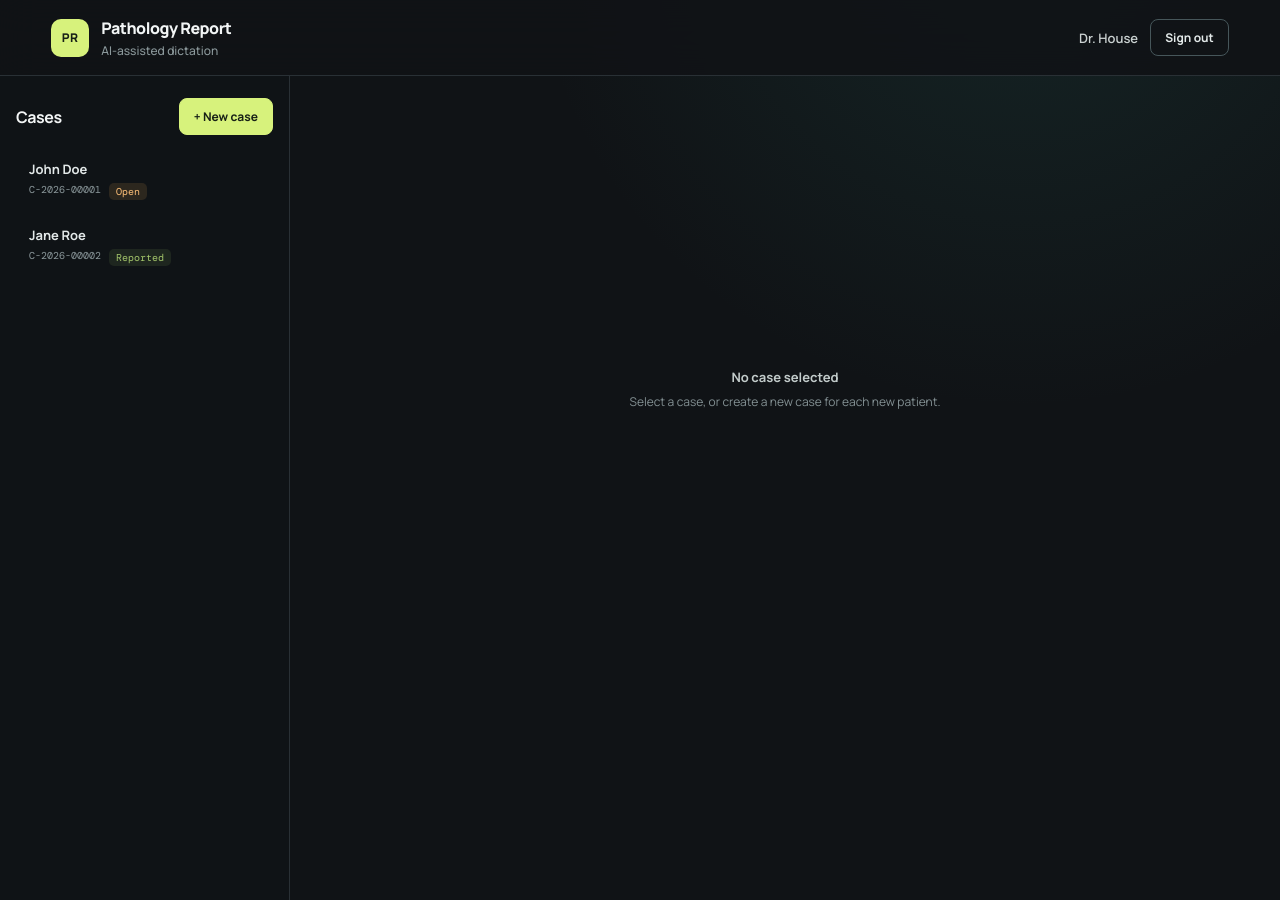
cases › dictates in an open case, authenticating the socket for that case
The width and height of the screenshot is (1280, 900).
Expected: the text "Dr. House" is shown, [1079,28,1138,46]
Click the button "John Doe C-2026-00001 Open". click: coordinates (144, 180)
box: [16,149,273,211]
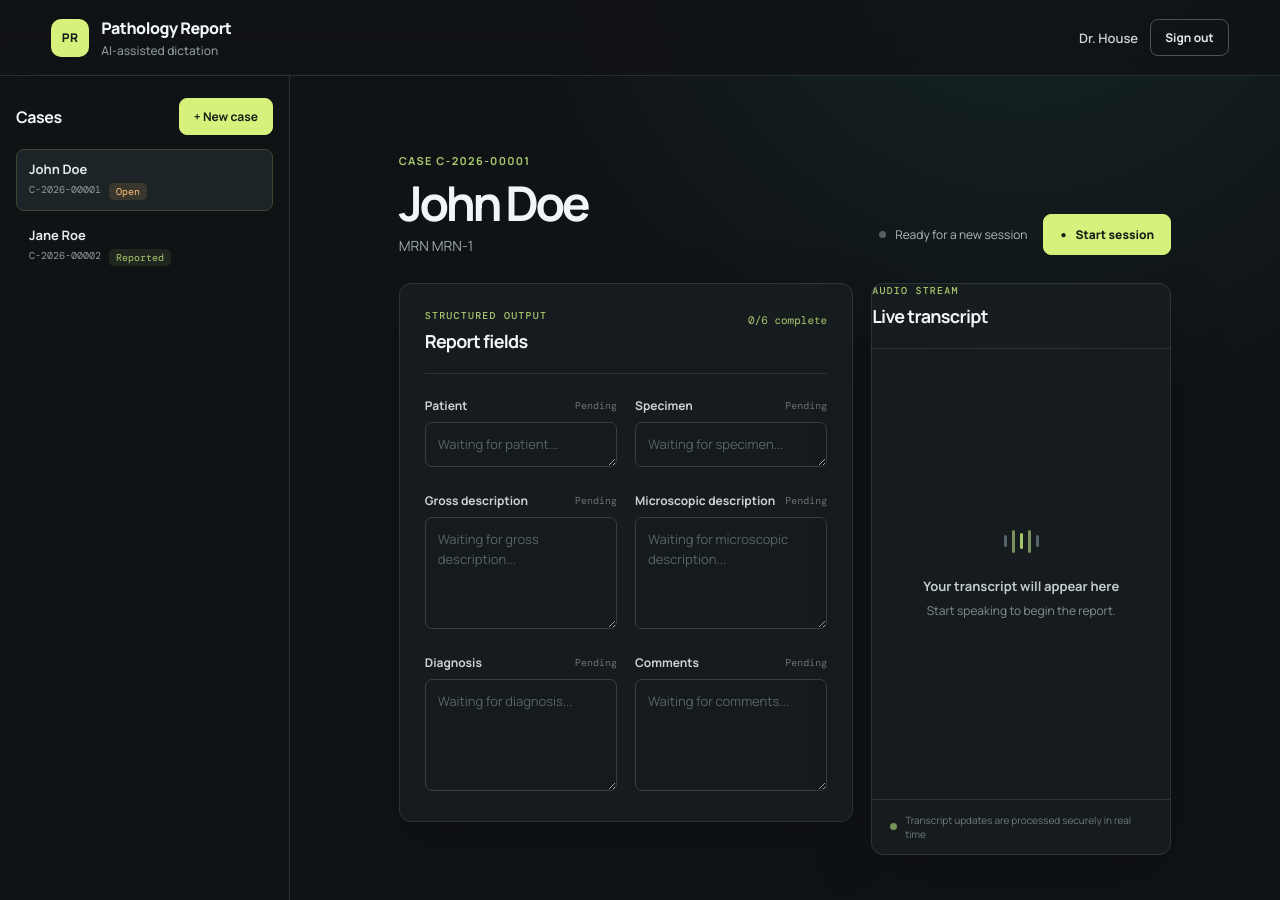
Result: the heading "John Doe" is shown at [399,179,587,226]
Click the button "● Start session". click: coordinates (1107, 234)
box: [1043,214,1171,255]
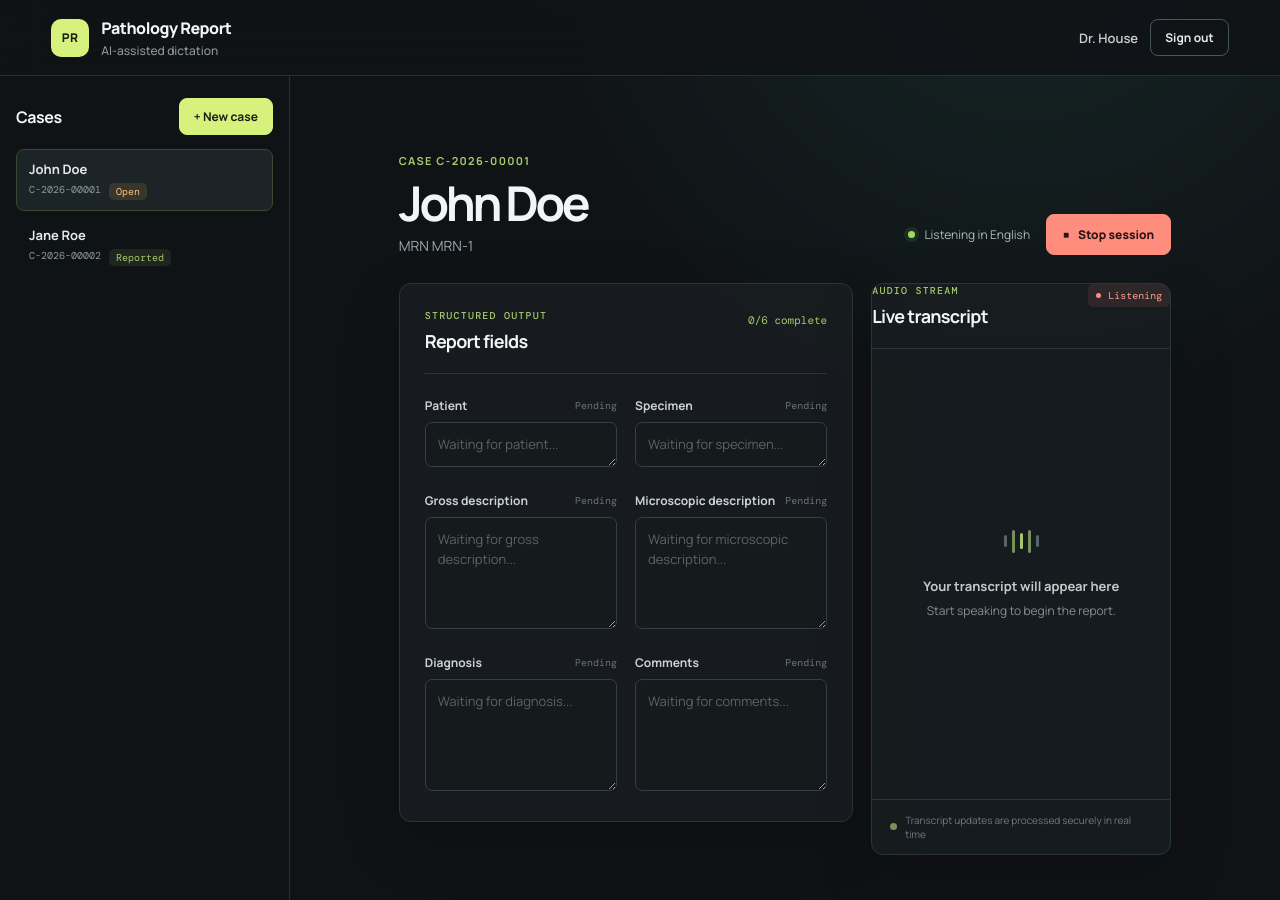
Click the button "■ Stop session". click: coordinates (1109, 234)
box: [1046,214,1171,255]
(page scrolled)
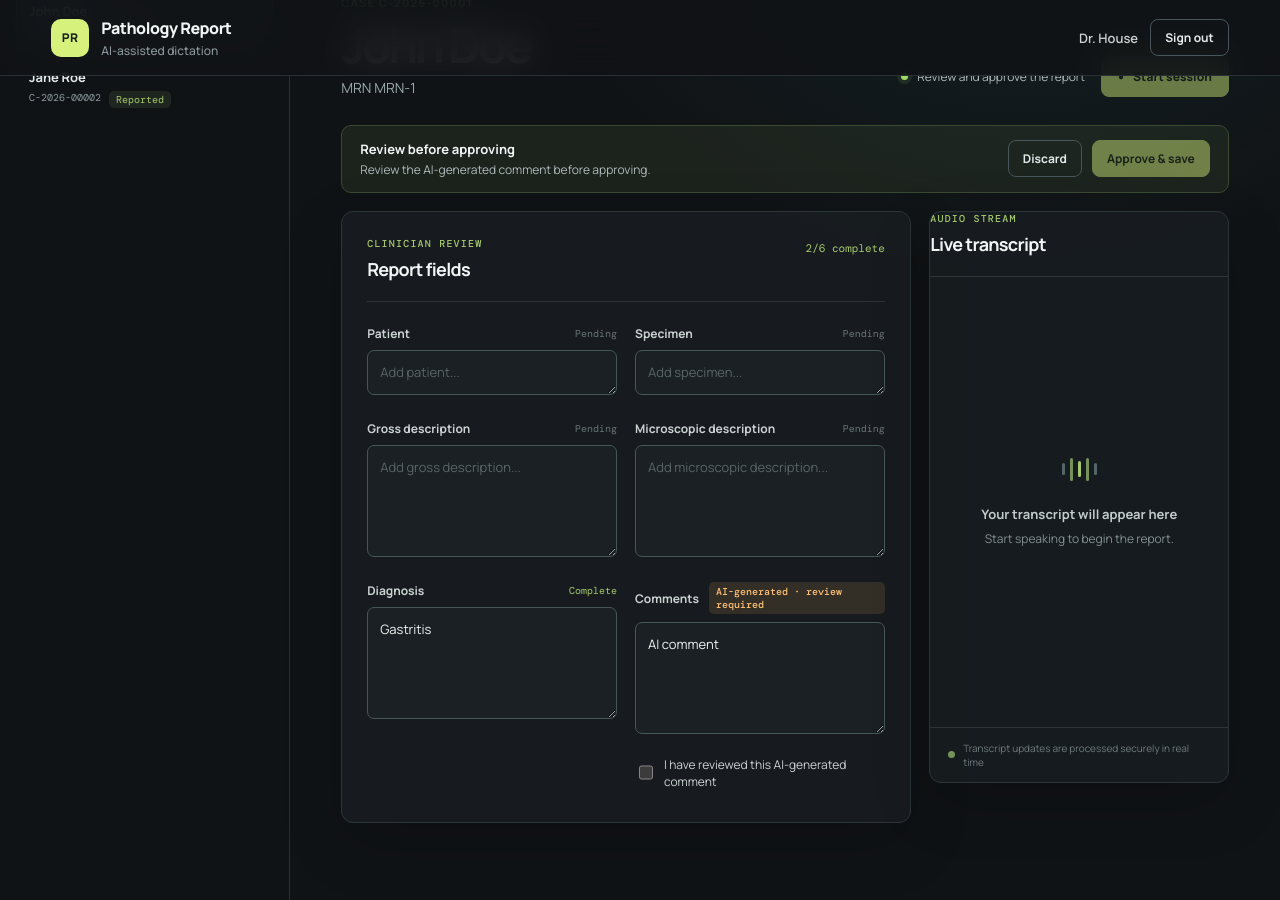
Result: the button "Approve & save" is disabled at [1092,140,1210,177]
Click the checkbox labelled "I have reviewed this AI-generated comment". click: coordinates (646, 773)
box: [639,751,653,794]
(page scrolled)
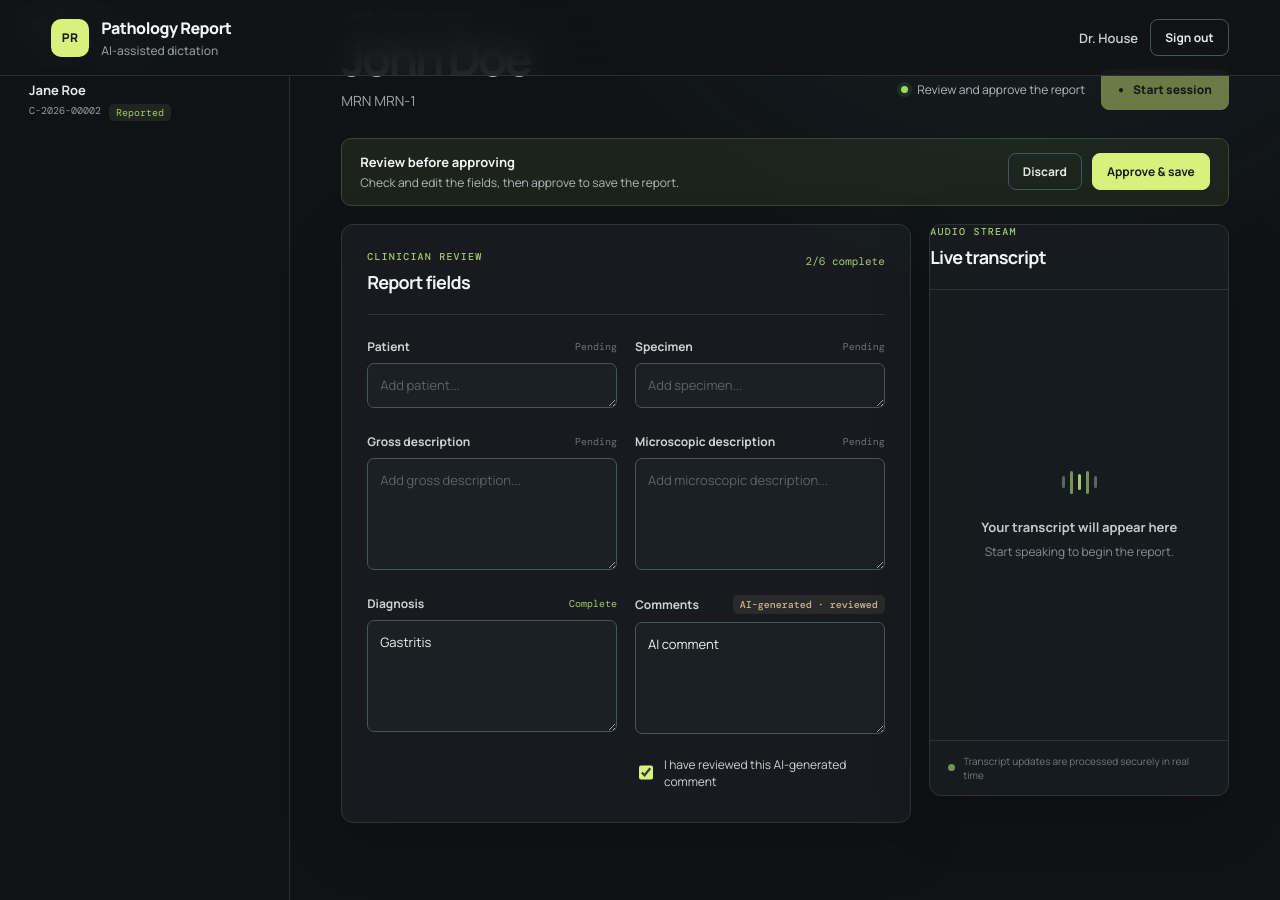
Result: the button "Approve & save" is enabled at [1092,153,1210,190]
